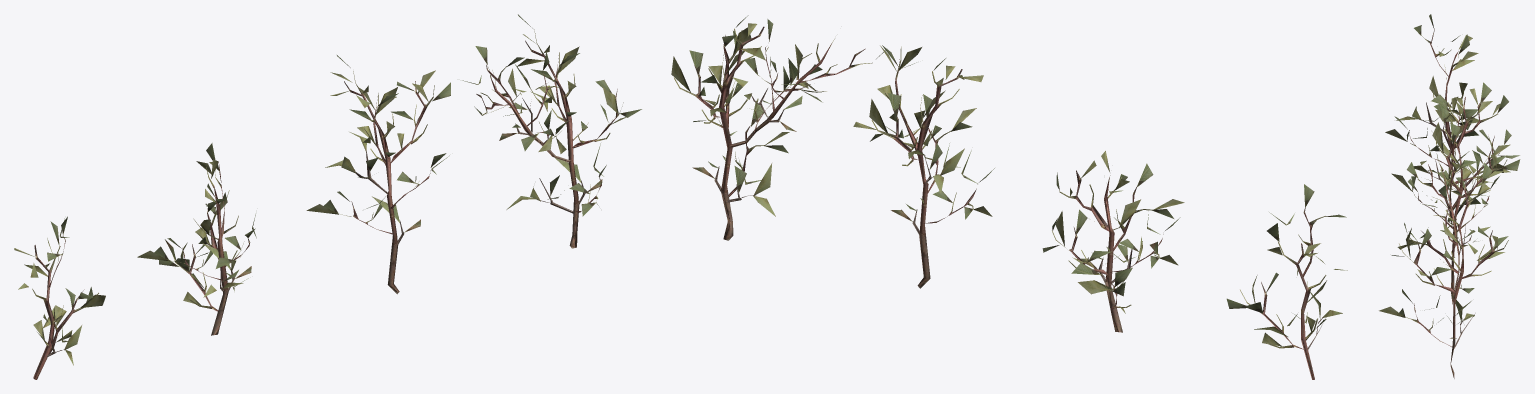
File: shrub.glb
The picture shows the model from 3 angles, left to right: view 1: azimuth 30°, elevation 25°; view 2: azimuth 150°, elevation 25°; view 3: azimuth 270°, elevation 25°; orthographic projection. The views are drawn at different scales.
Size of the model in its own units: 0.5711 by 0.2157 by 0.1352.
1 material, 1 textured.
